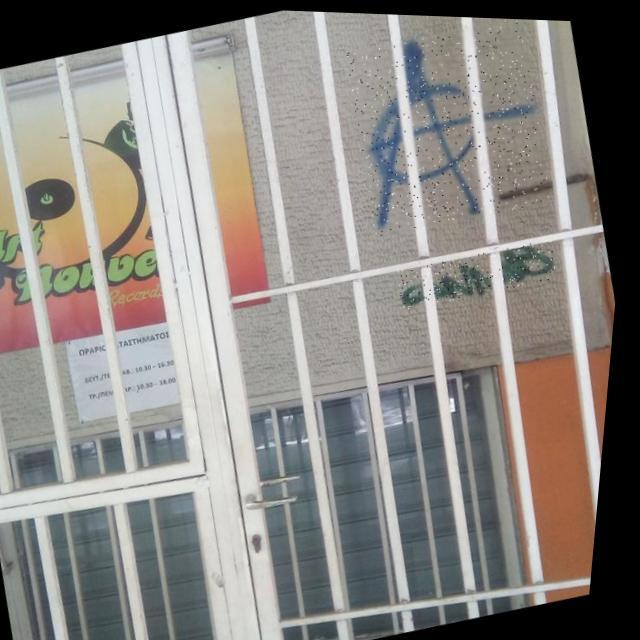-: (333, 11, 566, 240), (399, 230, 564, 310)
